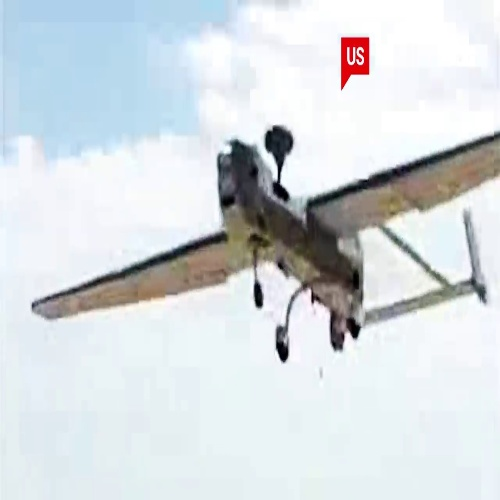uav109: (28, 129, 500, 365)
